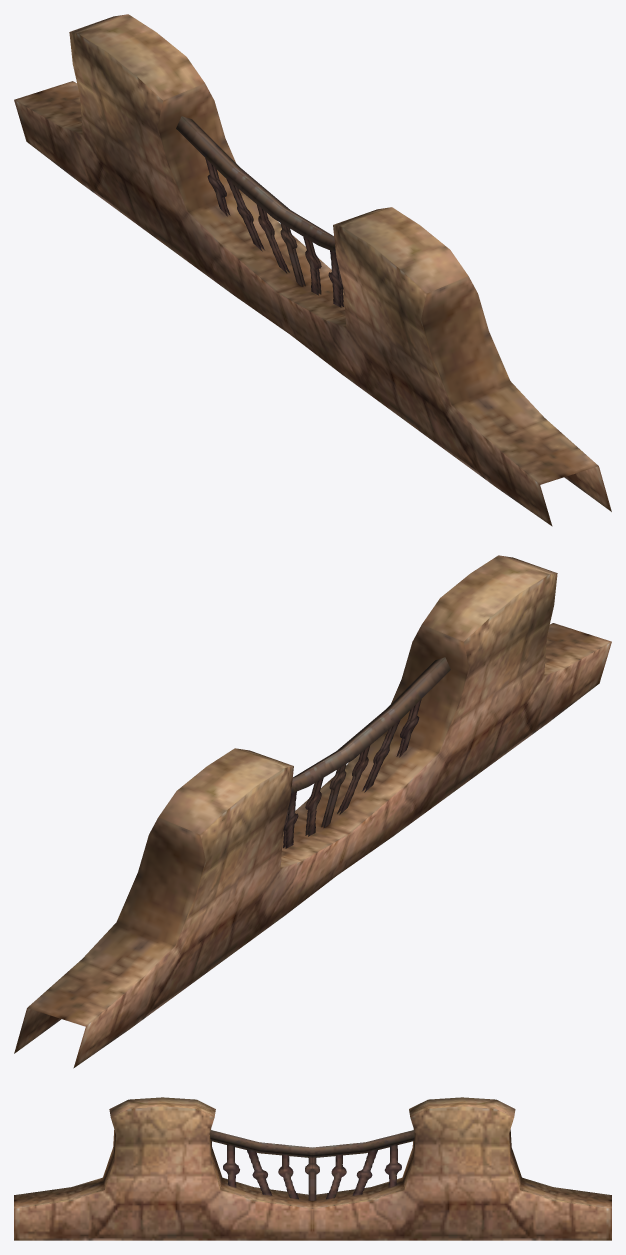
The model's file is S_Build_City022.FBX.
3 renders of one model, top to bottom at view 1: azimuth 30°, elevation 25°; view 2: azimuth 150°, elevation 25°; view 3: azimuth 270°, elevation 25°, orthographic. The views are drawn at different scales.
Parts seen in each view (by area): view 1: S_Build_City022; view 2: S_Build_City022; view 3: S_Build_City022.
Boxes of the visible parts, x1=… form: S_Build_City022: x1=14, y1=14, x2=611, y2=526; S_Build_City022: x1=14, y1=555, x2=611, y2=1068; S_Build_City022: x1=14, y1=1097, x2=611, y2=1240.
Size of the model in its own units: 218 by 1797 by 389.
Materials: 1 (1 with a texture image).
